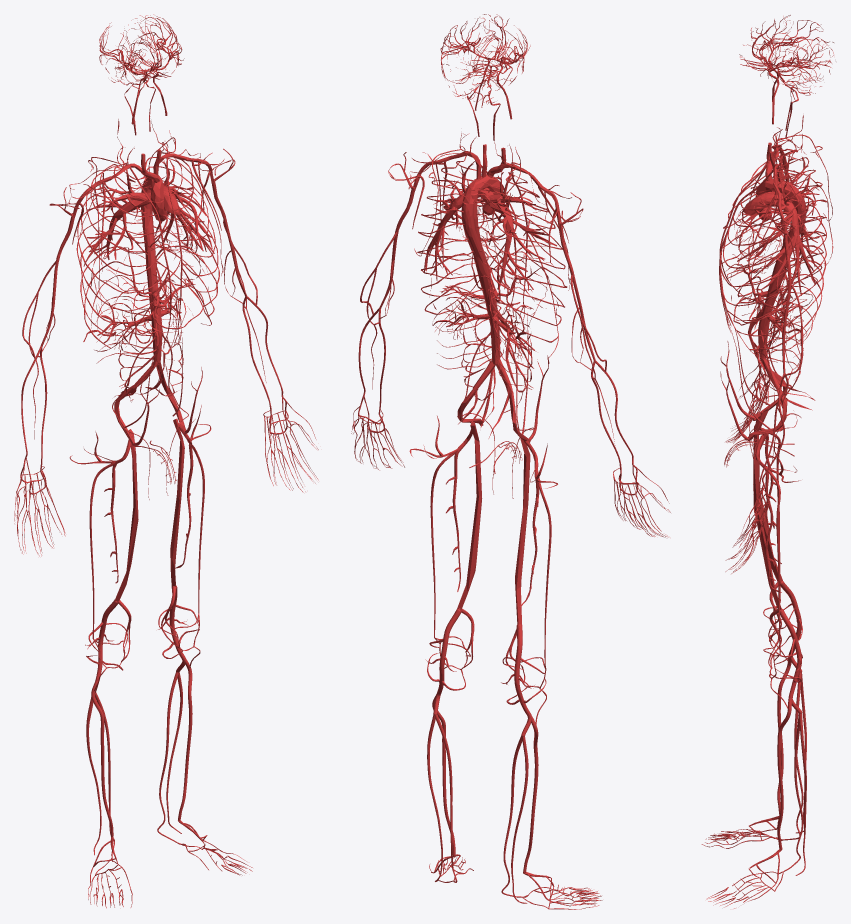
File: arterias-leve.glb
3 views of the same model, side by side, from view 1: azimuth 30°, elevation 25°; view 2: azimuth 150°, elevation 25°; view 3: azimuth 270°, elevation 25° (orthographic). The views are drawn at different scales.
Visible parts, largest first — view 1: FMA63822, FMA70801, FMA3784, FMA70815, FMA70250, FMA70249, FMA43897, FMA43896; view 2: FMA63822, FMA70801, FMA3784, FMA70250, FMA70249, FMA70815; view 3: FMA63822, FMA70801, FMA70250, FMA70815, FMA43897, FMA3789, FMA70249, FMA3784, FMA77381, FMA22692, FMA43896, FMA21423 (+8 smaller).
Part boxes in pixels (left/top/right/bottom): FMA63822: left=76, top=157, right=219, bottom=348; FMA70801: left=14, top=423, right=318, bottom=855; FMA3784: left=141, top=185, right=159, bottom=365; FMA70815: left=104, top=423, right=193, bottom=583; FMA70250: left=170, top=418, right=184, bottom=586; FMA70249: left=114, top=429, right=138, bottom=601; FMA43897: left=178, top=659, right=192, bottom=820; FMA43896: left=91, top=680, right=113, bottom=836; FMA63822: left=417, top=180, right=567, bottom=351; FMA70801: left=351, top=421, right=670, bottom=903; FMA3784: left=461, top=201, right=500, bottom=365; FMA70250: left=457, top=422, right=482, bottom=611; FMA70249: left=515, top=438, right=530, bottom=625; FMA70815: left=446, top=429, right=539, bottom=607; FMA63822: left=720, top=157, right=826, bottom=350; FMA70801: left=726, top=382, right=806, bottom=875; FMA70250: left=753, top=433, right=781, bottom=609; FMA70815: left=755, top=411, right=781, bottom=592; FMA43897: left=777, top=697, right=791, bottom=849; FMA3789: left=758, top=272, right=784, bottom=361; FMA70249: left=753, top=408, right=782, bottom=583; FMA3784: left=759, top=198, right=806, bottom=359; FMA77381: left=780, top=609, right=802, bottom=713; FMA22692: left=782, top=231, right=791, bottom=373; FMA43896: left=777, top=658, right=791, bottom=816; FMA21423: left=765, top=467, right=780, bottom=654.
Size of the model in its own units: 0.6451 by 1.7 by 0.2446.
